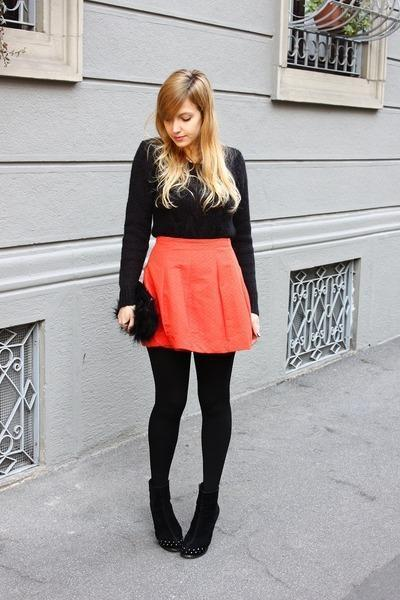bag: (114, 284, 159, 341)
jacket: (108, 139, 258, 315)
shoe: (156, 523, 210, 558)
skirt: (139, 236, 259, 371)
